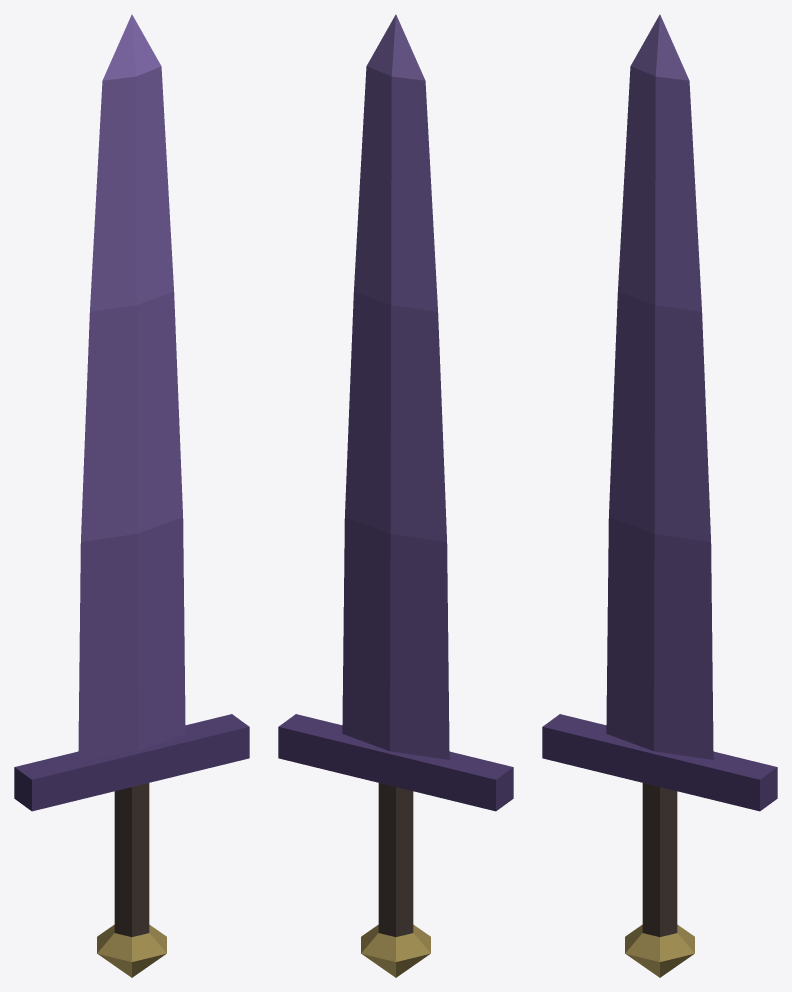
Rendered from sword_broad_runic_s1051.glb.
3 views of the same model, side by side, from view 1: azimuth 30°, elevation 25°; view 2: azimuth 150°, elevation 25°; view 3: azimuth 330°, elevation 25° (orthographic).
Visible parts, largest first — view 1: sword_broad_runic_s1051; view 2: sword_broad_runic_s1051; view 3: sword_broad_runic_s1051.
Boxes of the visible parts, x1=… form: sword_broad_runic_s1051: x1=14, y1=14, x2=249, y2=977; sword_broad_runic_s1051: x1=278, y1=14, x2=513, y2=977; sword_broad_runic_s1051: x1=542, y1=14, x2=777, y2=977.
Size of the model in its own units: 0.1872 by 0.7927 by 0.052.
Materials: 1 (1 with a texture image).
